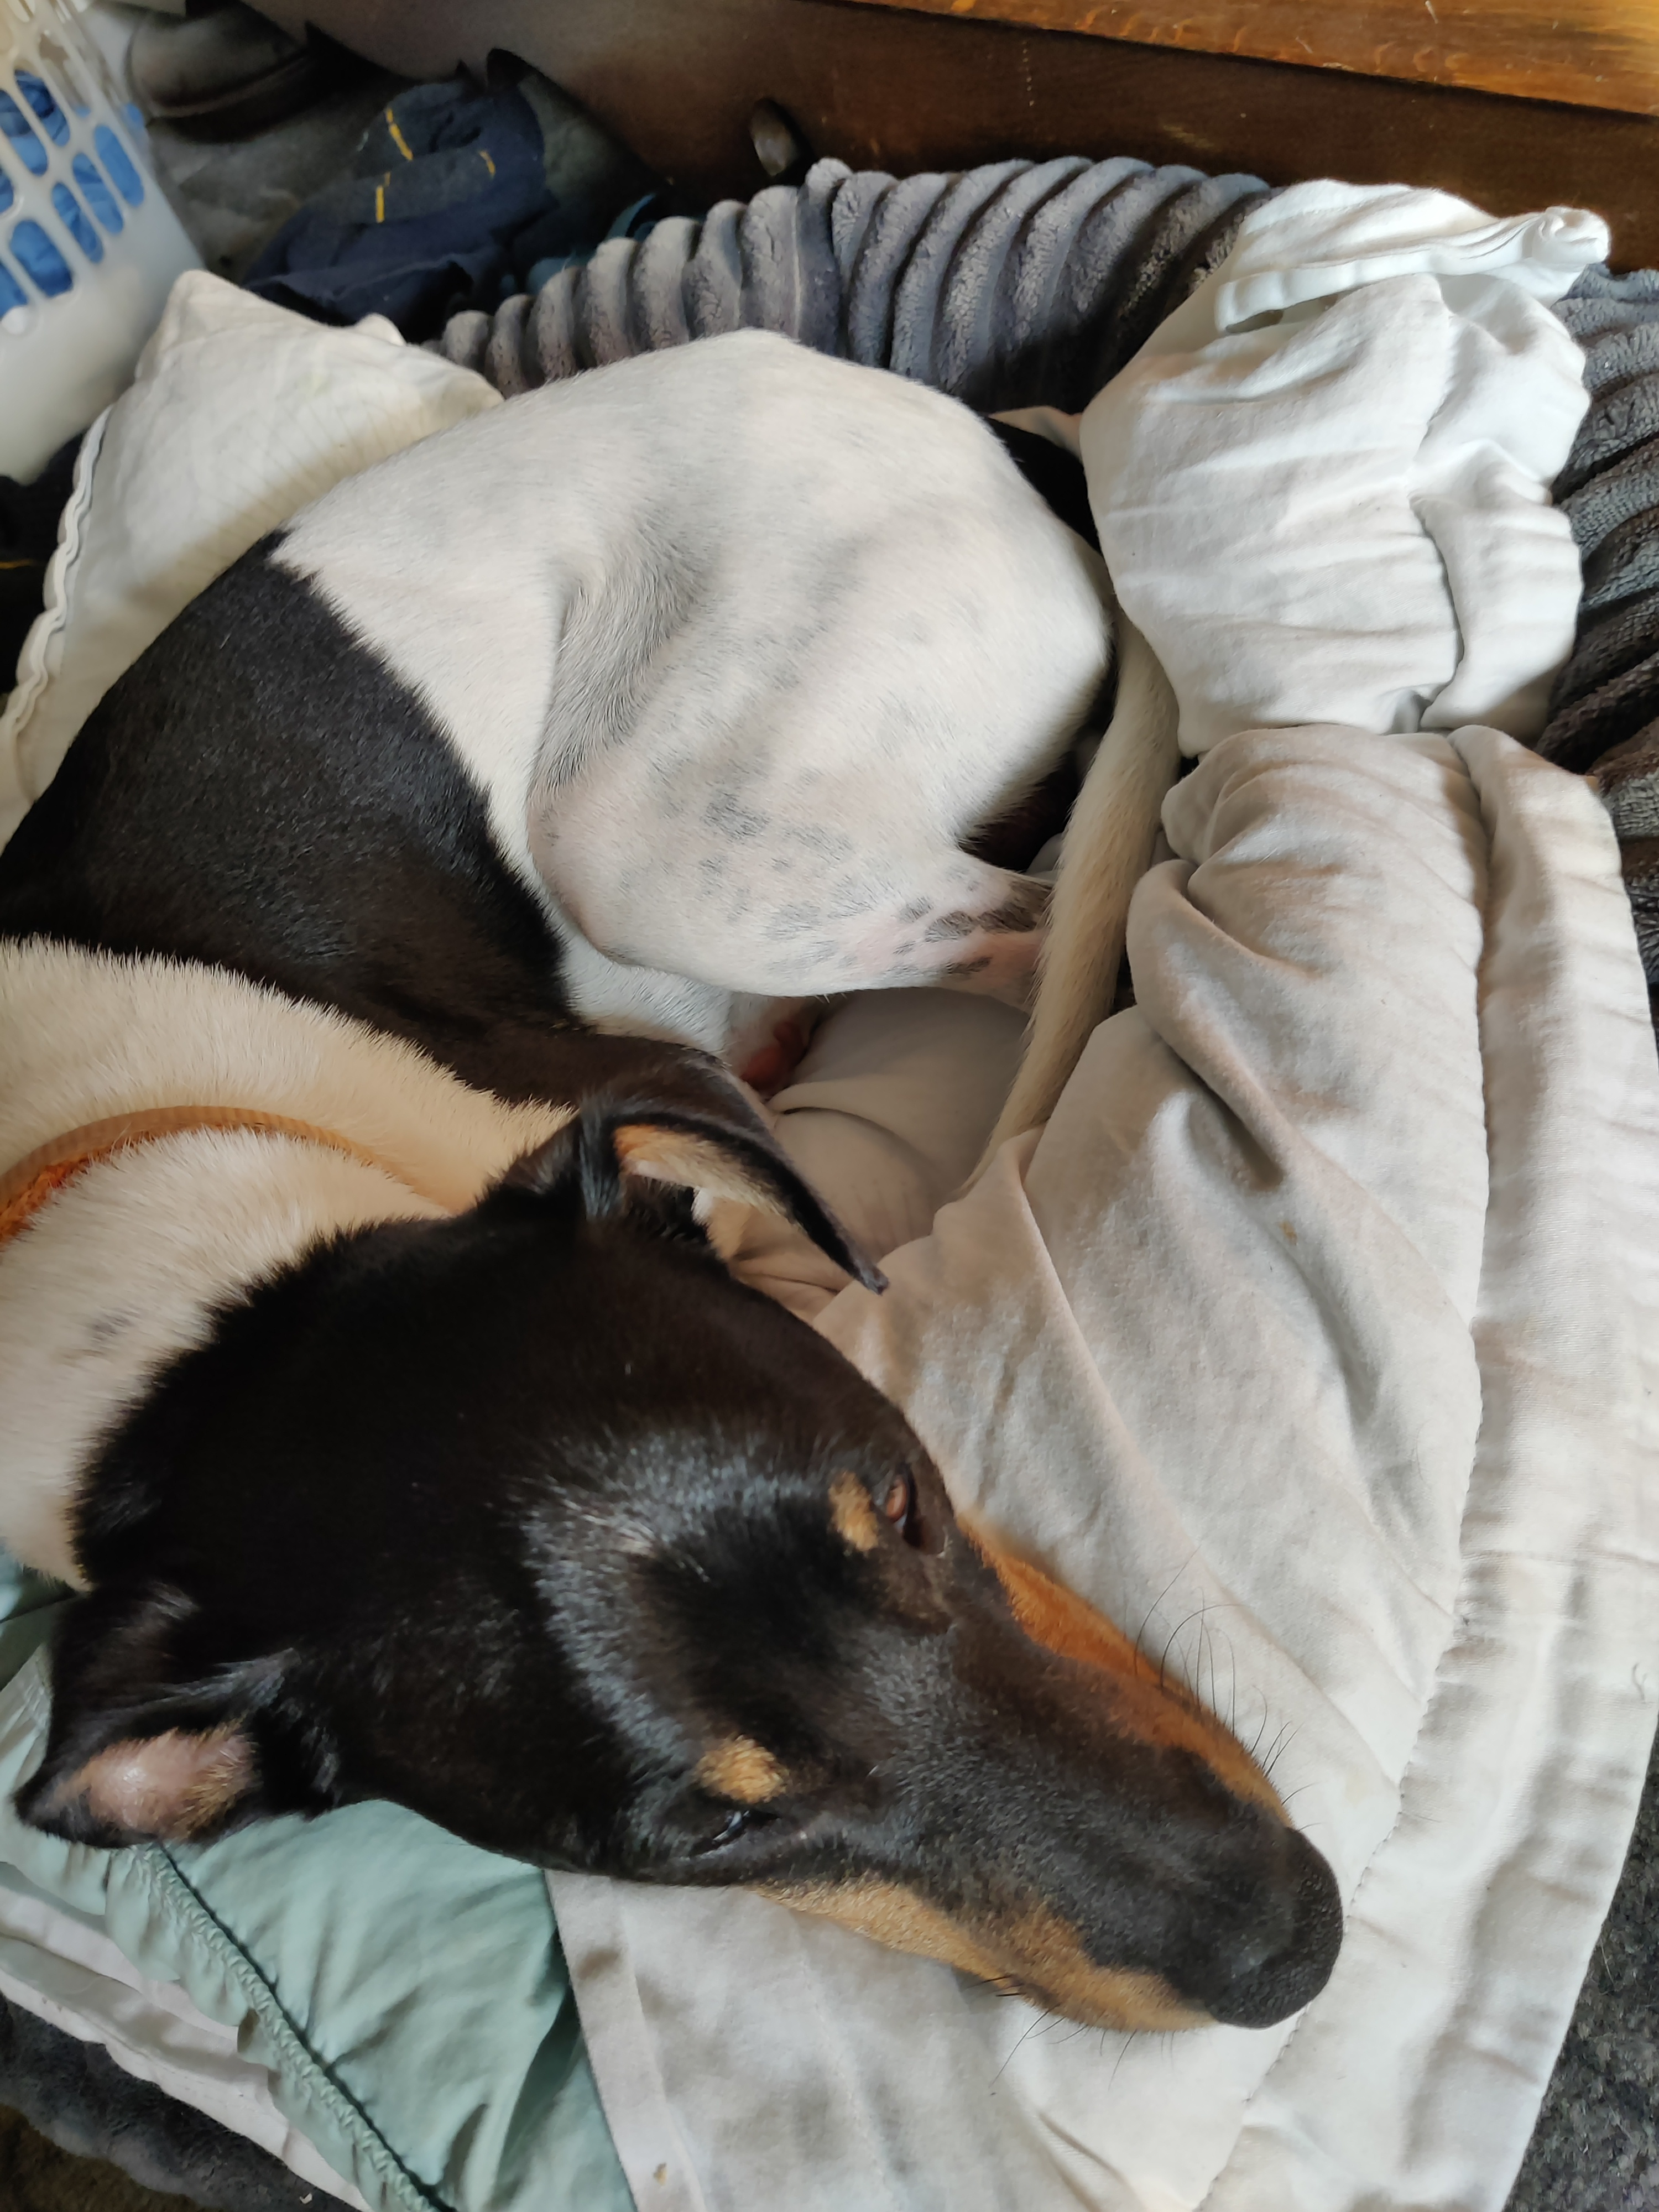Dog: (0, 305, 1391, 2073)
